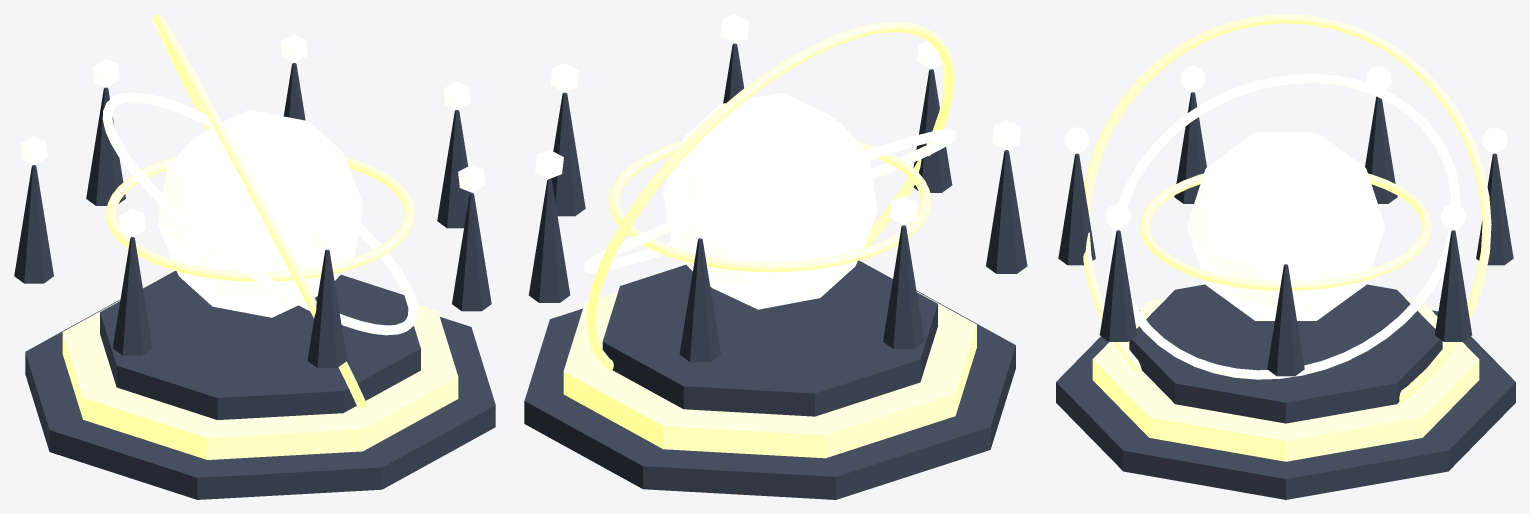
The model's file is gpu-blender-v42.glb.
3 views of the same model, side by side, from view 1: azimuth 30°, elevation 25°; view 2: azimuth 150°, elevation 25°; view 3: azimuth 270°, elevation 25° (orthographic). The views are drawn at different scales.
Parts seen in each view (by area): view 1: Cylinder.002, SovereignCore_schema-illustrator-studio, Cylinder, Cylinder.001, Torus.001, Torus, Torus.002, Cone.006, Cone.003, Cone.004, Cone.005, Cone (+9 smaller); view 2: Cylinder.002, SovereignCore_schema-illustrator-studio, Cylinder, Cylinder.001, Torus.002, Torus.001, Torus, Cone.003, Cone.002, Cone.004, Cone.001, Cone (+8 smaller); view 3: SovereignCore_schema-illustrator-studio, Cylinder.002, Cylinder, Cylinder.001, Torus.002, Torus.001, Torus, Cone, Cone.001, Cone.006, Cone.005, Cone.002 (+8 smaller).
Boxes of the visible parts, x1,y1,x2,y2 form: Cylinder.002: (100,271,420,419); SovereignCore_schema-illustrator-studio: (157,110,363,317); Cylinder: (25,299,495,499); Cylinder.001: (62,279,458,459); Torus.001: (102,92,418,335); Torus: (106,156,414,281); Torus.002: (153,14,366,407); Cone.006: (452,193,491,311); Cone.003: (14,165,53,283); Cone.004: (112,237,152,355); Cone.005: (307,249,347,367); Cone: (437,110,471,228); Cylinder.002: (602,260,937,416); SovereignCore_schema-illustrator-studio: (663,92,877,309); Cylinder: (524,290,1015,499); Cylinder.001: (563,269,976,458); Torus.002: (586,21,954,371); Torus.001: (584,129,956,272); Torus: (609,141,931,272); Cone.003: (883,225,924,349); Cone.002: (679,238,720,362); Cone.004: (986,150,1027,273); Cone.001: (529,179,570,302); Cone: (549,92,585,216); SovereignCore_schema-illustrator-studio: (1186,132,1385,320); Cylinder.002: (1129,284,1442,423); Cylinder: (1056,310,1515,499); Cylinder.001: (1092,298,1479,461); Torus.002: (1083,14,1491,403); Torus.001: (1111,73,1460,379); Torus: (1140,173,1431,290); Cone: (1267,264,1304,376); Cone.001: (1434,230,1472,341); Cone.006: (1099,230,1137,341); Cone.005: (1058,153,1095,265); Cone.002: (1476,153,1513,265).
Bounding box in the file's own units: 4.41 × 3.72 × 4.4.
